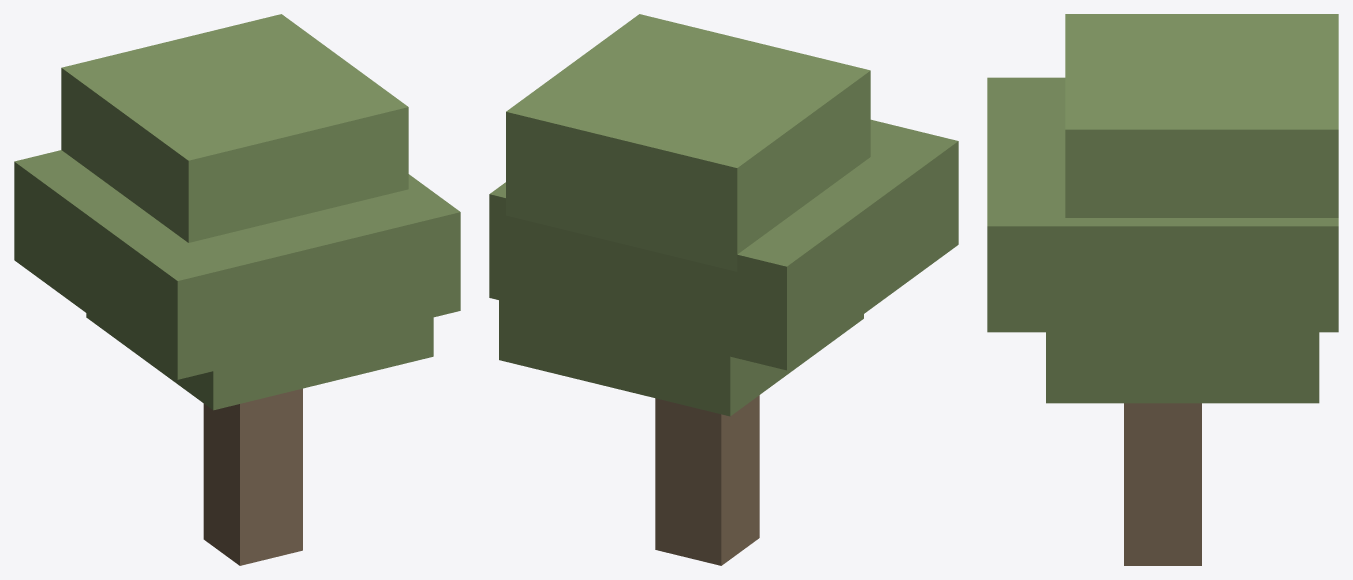
File: espino_albar_04.glb
The picture shows the model from 3 angles, left to right: view 1: azimuth 30°, elevation 25°; view 2: azimuth 150°, elevation 25°; view 3: azimuth 270°, elevation 25°; orthographic projection. The views are drawn at different scales.
Parts seen in each view (by area): view 1: espino_albar_04; view 2: espino_albar_04; view 3: espino_albar_04.
Boxes of the visible parts, x1=… form: espino_albar_04: x1=14, y1=14, x2=460, y2=565; espino_albar_04: x1=489, y1=14, x2=958, y2=565; espino_albar_04: x1=987, y1=14, x2=1338, y2=565.
Bounding box in the file's own units: 1.8 × 2.7 × 1.8.
